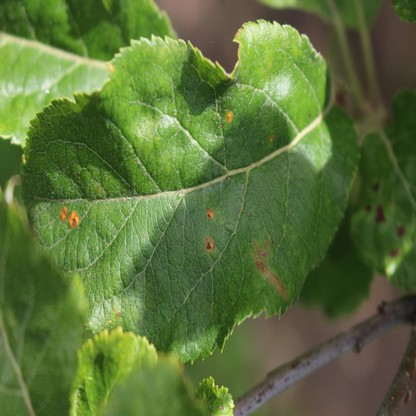rust: (204, 237, 215, 251), (70, 211, 77, 227), (206, 207, 214, 219), (61, 205, 67, 221), (226, 108, 232, 121)
